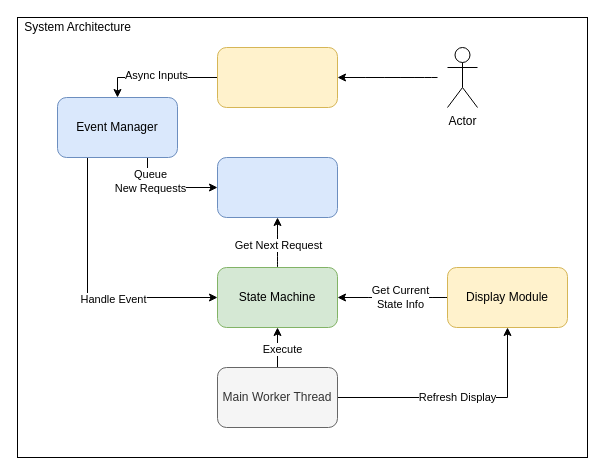
Some shapes in this 605 by 475 pixel diagram are drawn without their labels. The box of each missing label's shape, as (x1, y1, x2, y2) in pixels:
IO Module: (216, 46, 338, 108)
Request Manager: (216, 156, 338, 218)
